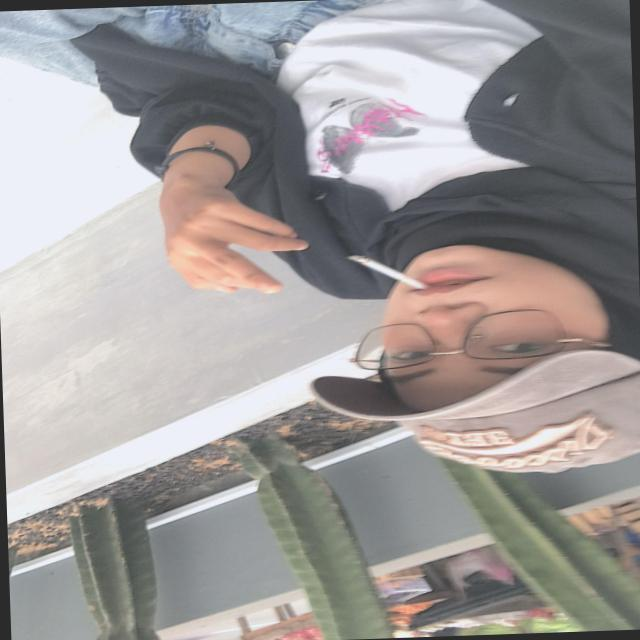cigarette: (316, 239, 446, 304)
